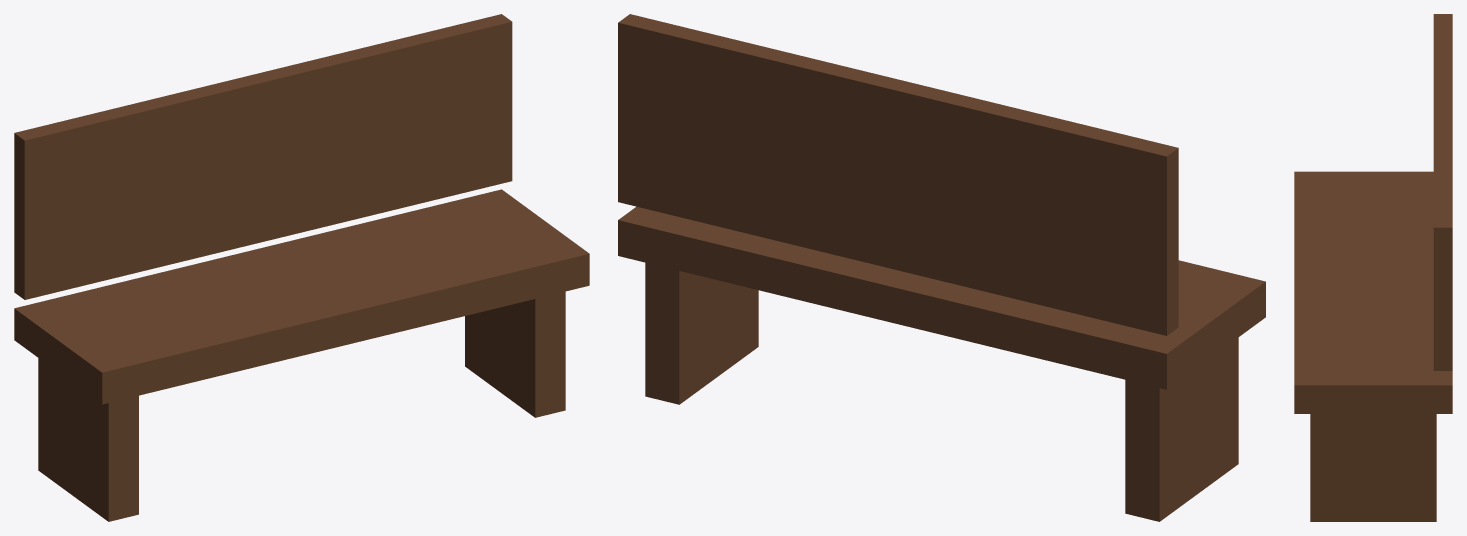
File: SM_Bench.fbx
The picture shows the model from 3 angles, left to right: view 1: azimuth 30°, elevation 25°; view 2: azimuth 150°, elevation 25°; view 3: azimuth 270°, elevation 25°; orthographic projection. The views are drawn at different scales.
Visible parts, largest first — view 1: Back, Seat, Leg_R, Leg_L; view 2: Back, Seat, Leg_R, Leg_L; view 3: Seat, Leg_L, Back.
Part boxes in pixels (x1,y1,x2,y2): Back: (14, 14, 512, 299); Seat: (14, 189, 589, 404); Leg_R: (38, 358, 138, 521); Leg_L: (465, 291, 565, 417); Back: (618, 14, 1178, 335); Seat: (618, 206, 1265, 389); Leg_R: (1125, 337, 1238, 521); Leg_L: (645, 262, 758, 404); Seat: (1294, 171, 1452, 413); Leg_L: (1310, 414, 1436, 521); Back: (1433, 14, 1452, 370).
Size of the model in its own units: 1.6 by 1.05 by 0.5.
